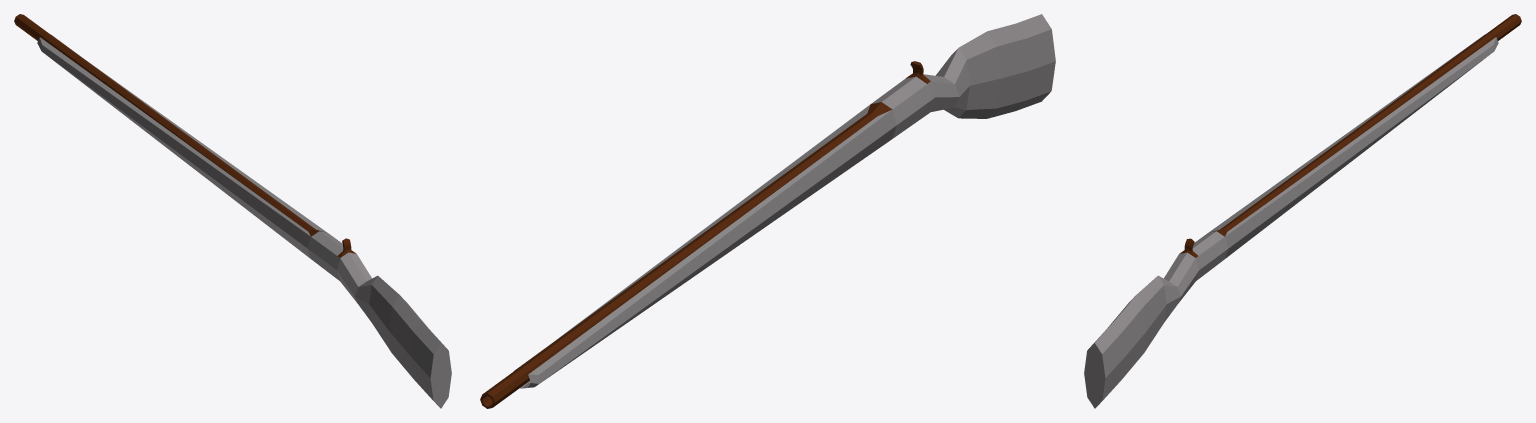
The model's file is Gun.fbx.
3 renders of one model, left to right at view 1: azimuth 30°, elevation 25°; view 2: azimuth 150°, elevation 25°; view 3: azimuth 330°, elevation 25°, orthographic. The views are drawn at different scales.
Parts seen in each view (by area): view 1: Gun; view 2: Gun; view 3: Gun.
Boxes of the visible parts, x1,y1,x2,y2 form: Gun: (14, 14, 451, 408); Gun: (480, 14, 1055, 408); Gun: (1084, 14, 1521, 408).
Bounding box in the file's own units: 16.93 × 68.96 × 524.
